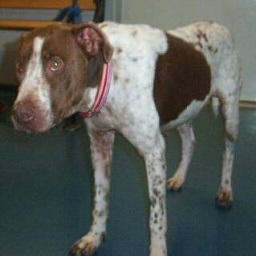dog: (14, 11, 238, 256)
